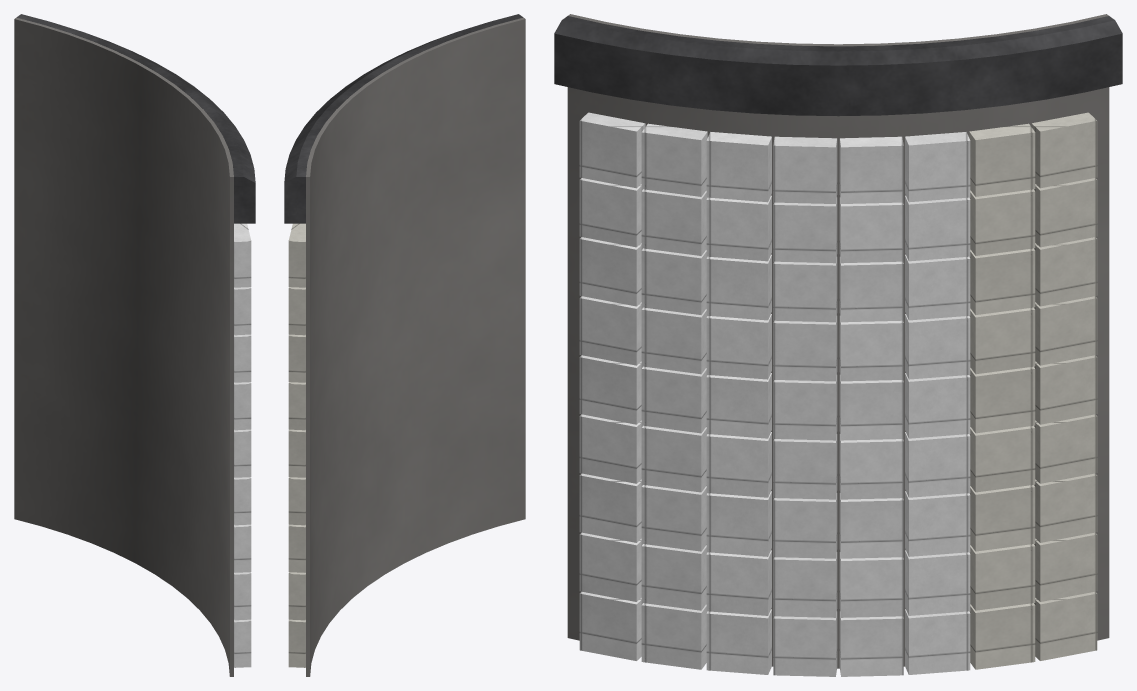
Rendered from jet11_tps_tiles_m.glb.
3 renders of one model, left to right at view 1: azimuth 30°, elevation 25°; view 2: azimuth 150°, elevation 25°; view 3: azimuth 270°, elevation 25°, orthographic. The views are drawn at different scales.
Visible parts, largest first — view 1: substrate, rcc_edge, tile_r08_c00, tile_r01_c00, tile_r03_c00, tile_r00_c00, tile_r02_c00, tile_r04_c00, tile_r05_c00, tile_r06_c00, tile_r07_c00; view 2: substrate, rcc_edge, tile_r08_c07, tile_r01_c07, tile_r03_c07, tile_r00_c07, tile_r02_c07, tile_r04_c07, tile_r05_c07, tile_r06_c07, tile_r07_c07; view 3: rcc_edge, substrate, tile_r08_c01, tile_r08_c06, tile_r08_c02, tile_r08_c05, tile_r08_c03, tile_r08_c04, tile_r08_c00, tile_r08_c07, tile_r02_c02, tile_r02_c05 (+62 smaller).
Boxes of the visible parts, bbox=[...] form: substrate: bbox=[14, 17, 233, 676]; rcc_edge: bbox=[16, 14, 255, 223]; tile_r08_c00: bbox=[234, 223, 251, 287]; tile_r01_c00: bbox=[234, 572, 251, 620]; tile_r03_c00: bbox=[234, 477, 251, 525]; tile_r00_c00: bbox=[234, 619, 251, 667]; tile_r02_c00: bbox=[234, 524, 251, 572]; tile_r04_c00: bbox=[234, 429, 251, 477]; tile_r05_c00: bbox=[234, 382, 251, 430]; tile_r06_c00: bbox=[234, 334, 251, 382]; tile_r07_c00: bbox=[234, 287, 251, 335]; substrate: bbox=[306, 17, 525, 676]; rcc_edge: bbox=[284, 14, 523, 223]; tile_r08_c07: bbox=[288, 223, 305, 287]; tile_r01_c07: bbox=[288, 572, 305, 620]; tile_r03_c07: bbox=[288, 477, 305, 525]; tile_r00_c07: bbox=[288, 619, 305, 667]; tile_r02_c07: bbox=[288, 524, 305, 572]; tile_r04_c07: bbox=[288, 429, 305, 477]; tile_r05_c07: bbox=[288, 382, 305, 430]; tile_r06_c07: bbox=[288, 334, 305, 382]; tile_r07_c07: bbox=[288, 287, 305, 335]; rcc_edge: bbox=[554, 16, 1122, 116]; substrate: bbox=[567, 14, 1109, 668]; tile_r08_c01: bbox=[641, 123, 707, 196]; tile_r08_c06: bbox=[969, 123, 1035, 196]; tile_r08_c02: bbox=[706, 132, 771, 202]; tile_r08_c05: bbox=[905, 132, 970, 202]; tile_r08_c03: bbox=[773, 136, 837, 203]; tile_r08_c04: bbox=[839, 136, 903, 203]; tile_r08_c00: bbox=[579, 112, 645, 188]; tile_r08_c07: bbox=[1031, 112, 1097, 188]; tile_r02_c02: bbox=[706, 491, 771, 556]; tile_r02_c05: bbox=[905, 491, 970, 556].
Bounding box in the file's own units: 0.2418 × 1.6 × 1.33.
4 materials, 4 textured.
